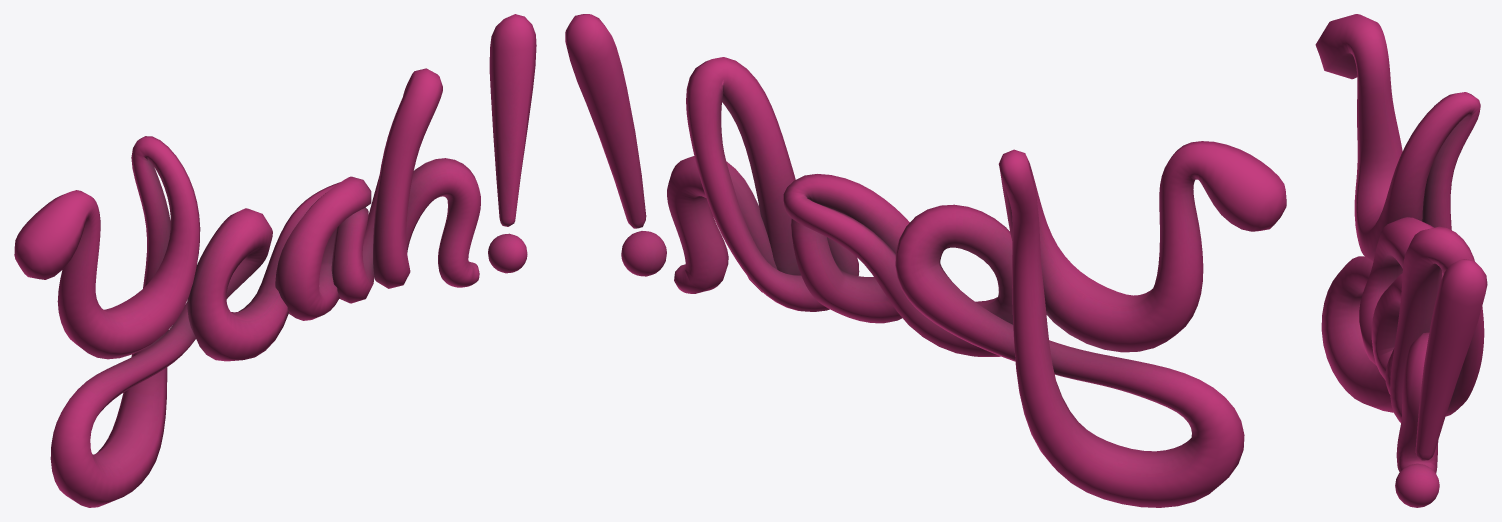
Rendered from yeah.gltf.
3 views of the same model, side by side, from view 1: azimuth 30°, elevation 25°; view 2: azimuth 150°, elevation 25°; view 3: azimuth 270°, elevation 25° (orthographic). The views are drawn at different scales.
Visible parts, largest first — view 1: Yeah006%2E1; view 2: Yeah006%2E1; view 3: Yeah006%2E1.
Part boxes in pixels (x1=…): Yeah006%2E1: x1=14, y1=14, x2=536, y2=507; Yeah006%2E1: x1=565, y1=14, x2=1286, y2=507; Yeah006%2E1: x1=1315, y1=14, x2=1487, y2=507.
Size of the model in its own units: 0.0866 by 0.0505 by 0.0203.
Materials: 1 (1 with a texture image).
